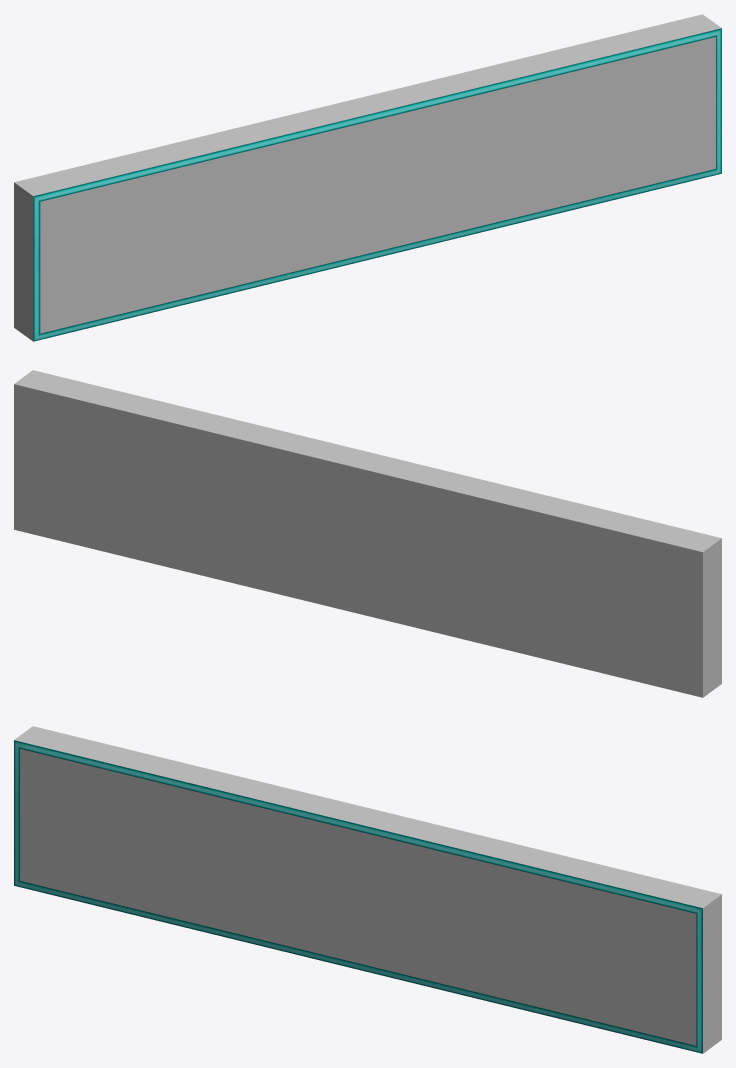
File: sign_12.fbx
The picture shows the model from 3 angles, top to bottom: view 1: azimuth 30°, elevation 25°; view 2: azimuth 150°, elevation 25°; view 3: azimuth 330°, elevation 25°; orthographic projection.
Parts seen in each view (by area): view 1: sign_12; view 2: sign_12; view 3: sign_12.
Part boxes in pixels (x1,y1,x2,y2): sign_12: (14, 14, 721, 341); sign_12: (14, 370, 721, 697); sign_12: (14, 726, 721, 1053).
Size of the model in its own units: 5.8 by 1.17 by 0.2851.
